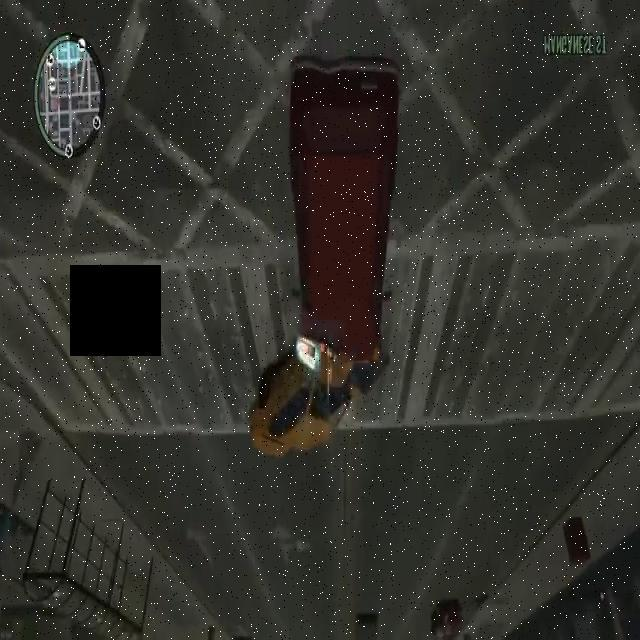moderate: (245, 50, 406, 473)
